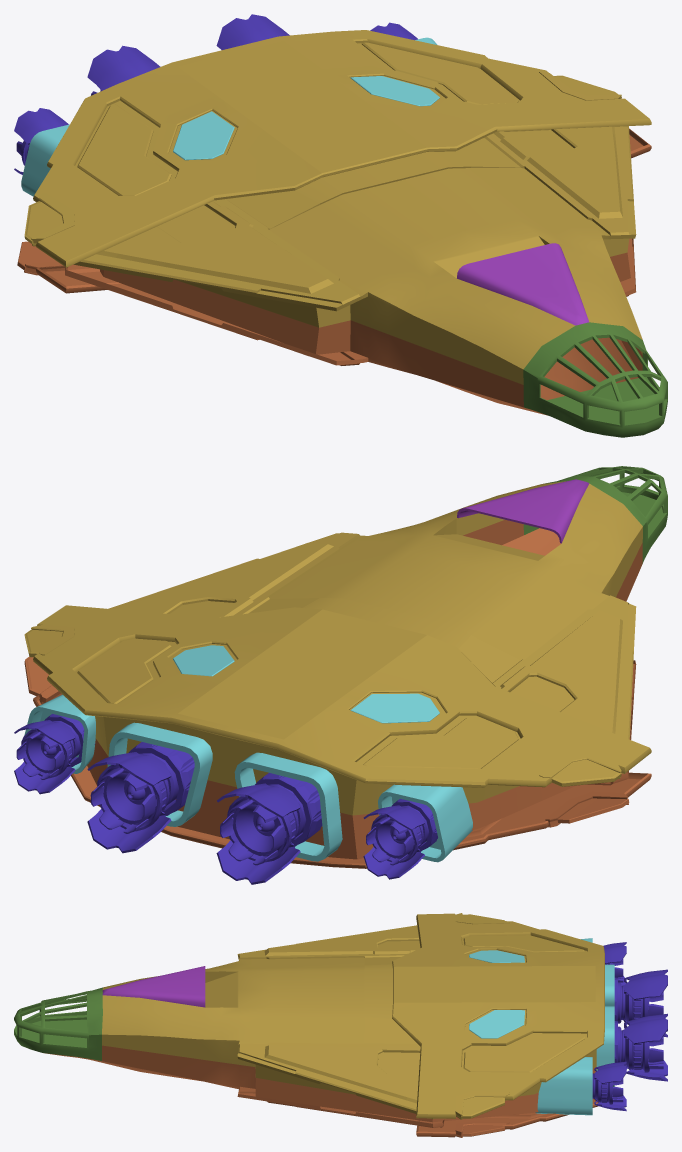
Rendered from UVW SHIP TEST.fbx.
The picture shows the model from 3 angles, top to bottom: view 1: azimuth 30°, elevation 25°; view 2: azimuth 150°, elevation 25°; view 3: azimuth 270°, elevation 25°; orthographic projection. The views are drawn at different scales.
Parts seen in each view (by area): view 1: ShipHull_Upper, ShipHull_Lower, ShipHull_Cockpit, ShipHull_UpperDeckCorridor, ShipHull_Aux01, ShipHull_Engine3, ShipHull_Guard4, ShipHull_Aux02, ShipHull_Engine2, ShipHull_Engine4; view 2: ShipHull_Upper, ShipHull_Lower, ShipHull_Engine2, ShipHull_Engine3, ShipHull_Engine4, ShipHull_Engine1, ShipHull_Guard3, ShipHull_UpperDeckCorridor, ShipHull_Cockpit, ShipHull_Guard4, ShipHull_Guard2, ShipHull_Aux01 (+2 smaller); view 3: ShipHull_Upper, ShipHull_Lower, ShipHull_Cockpit, ShipHull_Engine2, ShipHull_Guard1, ShipHull_UpperDeckCorridor, ShipHull_Engine3, ShipHull_Engine1, ShipHull_Aux02, ShipHull_Guard2, ShipHull_Engine4, ShipHull_Aux01 (+1 smaller).
Boxes of the visible parts, x1,y1,x2,y2 form: ShipHull_Upper: (24,30,651,384); ShipHull_Lower: (17,128,651,415); ShipHull_Cockpit: (523,322,667,437); ShipHull_UpperDeckCorridor: (457,243,588,325); ShipHull_Aux01: (173,111,234,160); ShipHull_Engine3: (87,45,160,95); ShipHull_Guard4: (21,124,69,196); ShipHull_Aux02: (350,76,439,106); ShipHull_Engine2: (216,14,289,49); ShipHull_Engine4: (14,108,68,174); ShipHull_Upper: (24,481,651,815); ShipHull_Lower: (24,519,651,868); ShipHull_Engine2: (87,742,194,853); ShipHull_Engine3: (216,773,322,884); ShipHull_Engine4: (363,798,437,879); ShipHull_Engine1: (14,714,95,794); ShipHull_Guard3: (234,752,342,861); ShipHull_UpperDeckCorridor: (457,479,589,543); ShipHull_Cockpit: (523,466,667,563); ShipHull_Guard4: (378,784,472,862); ShipHull_Guard2: (107,722,212,826); ShipHull_Aux01: (350,693,439,723); ShipHull_Upper: (102,913,604,1119); ShipHull_Lower: (43,1045,598,1137); ShipHull_Cockpit: (14,987,102,1060); ShipHull_Engine2: (614,1013,667,1081); ShipHull_Guard1: (535,1057,592,1115); ShipHull_UpperDeckCorridor: (102,966,205,1007); ShipHull_Engine3: (614,969,667,1037); ShipHull_Engine1: (592,1061,626,1111); ShipHull_Aux02: (469,1010,524,1038); ShipHull_Guard2: (596,1006,614,1086); ShipHull_Engine4: (603,942,626,985); ShipHull_Aux01: (469,950,524,962).
Size of the model in its own units: 3932 by 772 by 5316.
